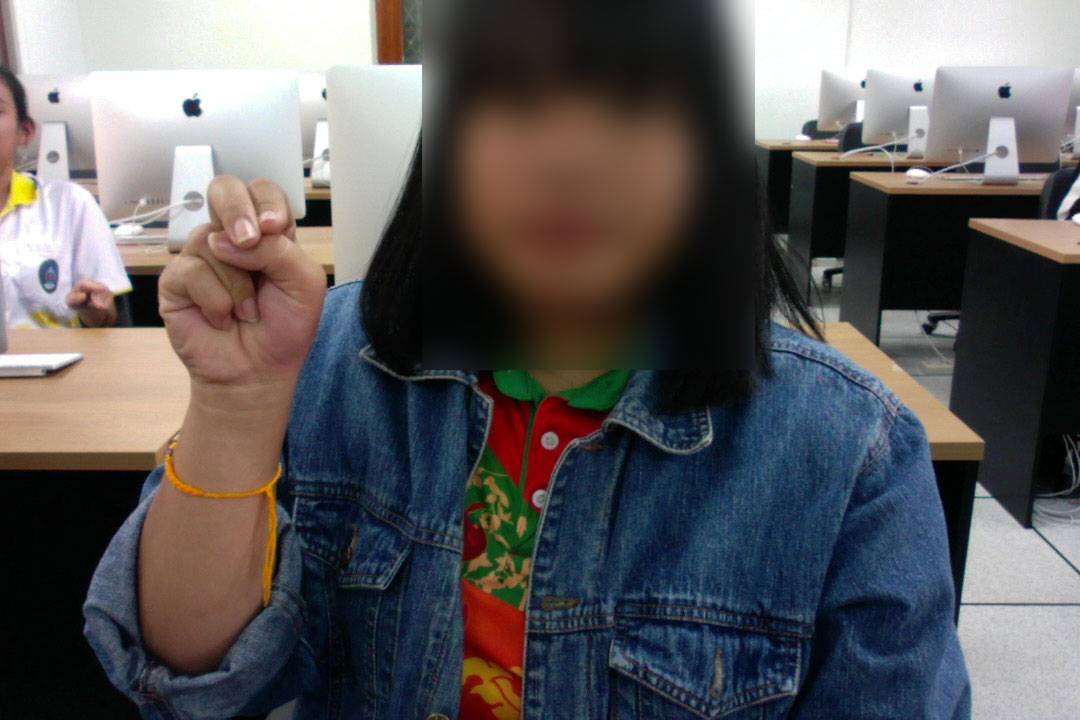nor: (151, 165, 331, 424)
